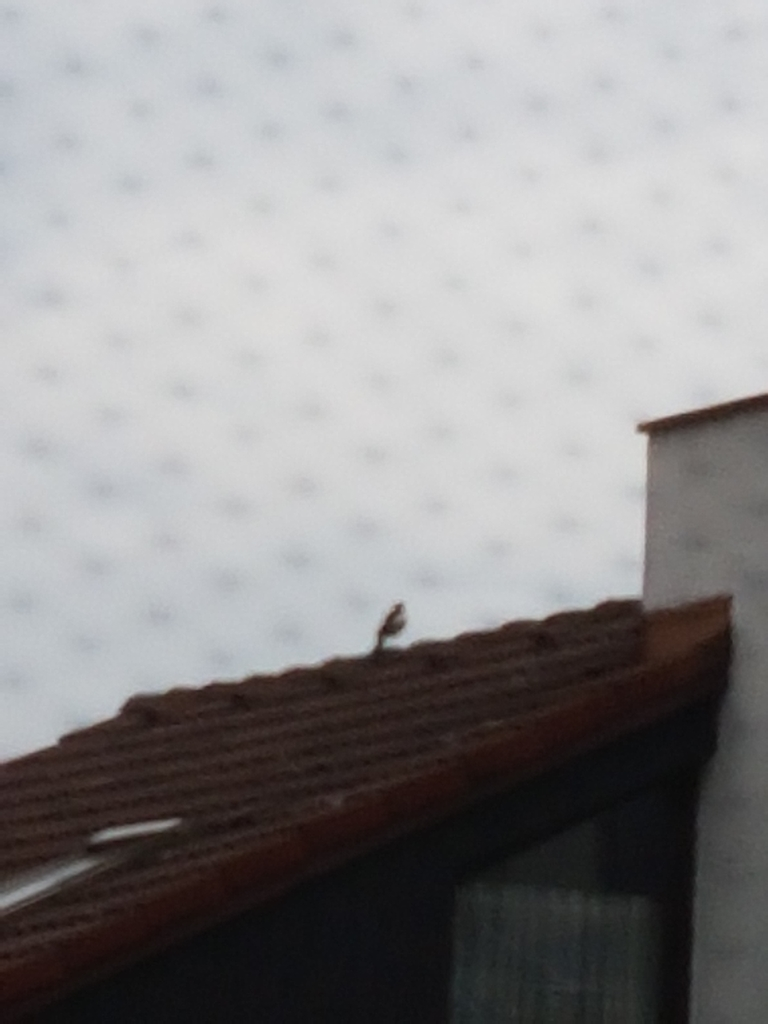Pica_pica: (374, 600, 410, 650)
